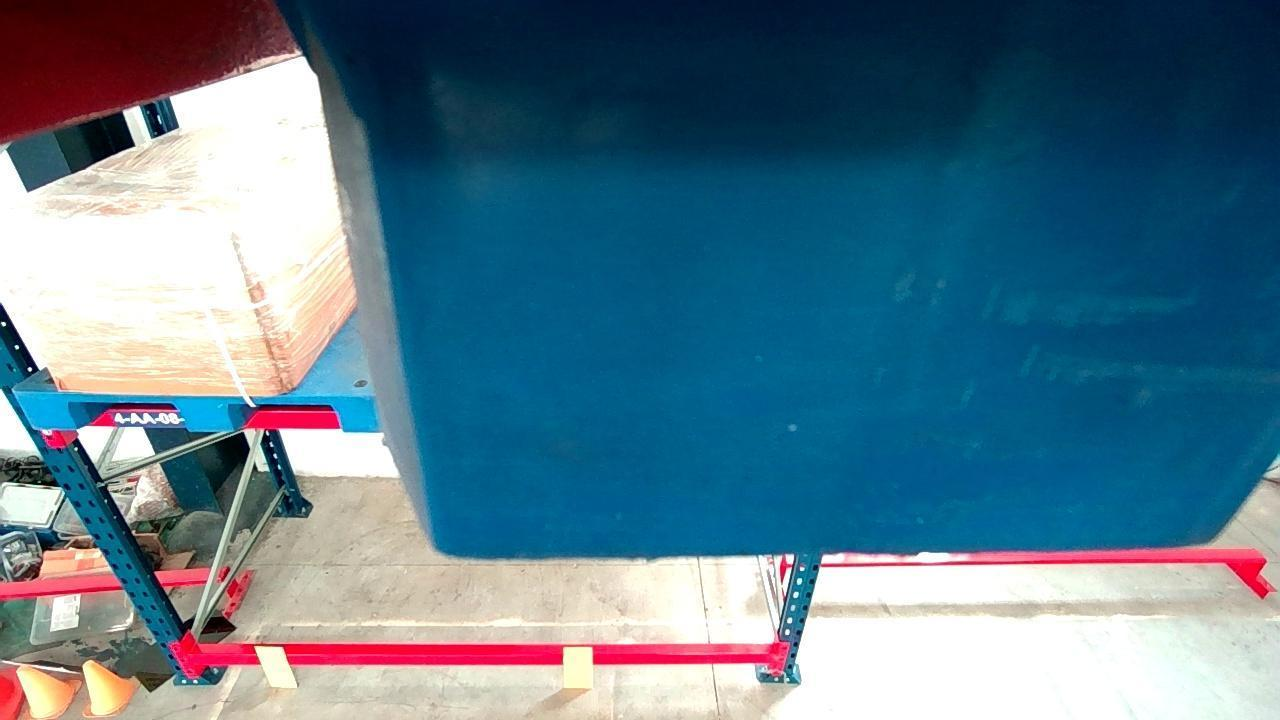h_rack: (184, 649, 779, 667)
orange_strip: (254, 644, 296, 687), (562, 644, 594, 688)
small_pallet: (15, 391, 381, 434)
